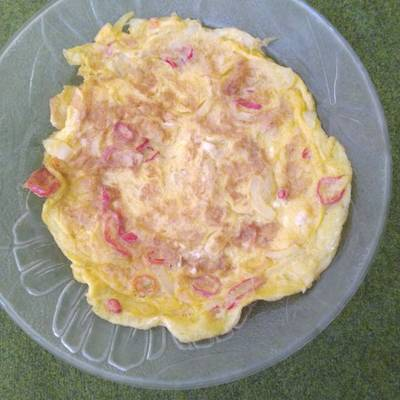Telur: (38, 27, 343, 367)
